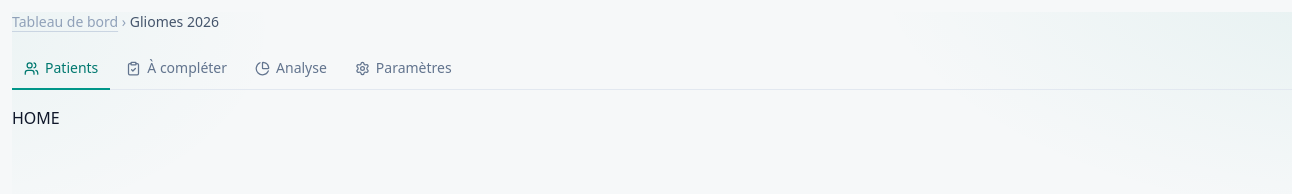
Test case: BaseLayout — quatre destinations › « À coder » suit le droit de modifier les données, comme la file
Click the link "À compléter".
click(177, 68)  # box [126,58,227,77]
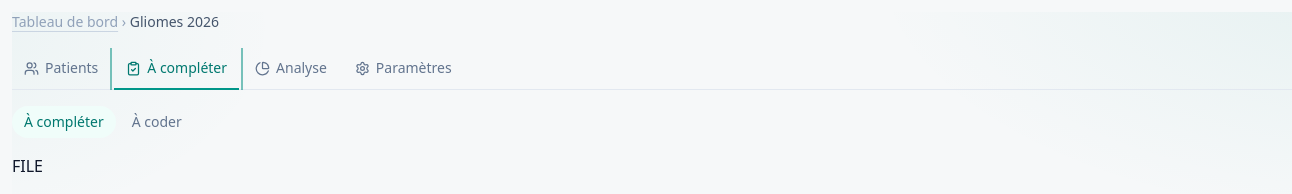
Click the link "À coder".
click(157, 122)  # box [132,112,182,131]
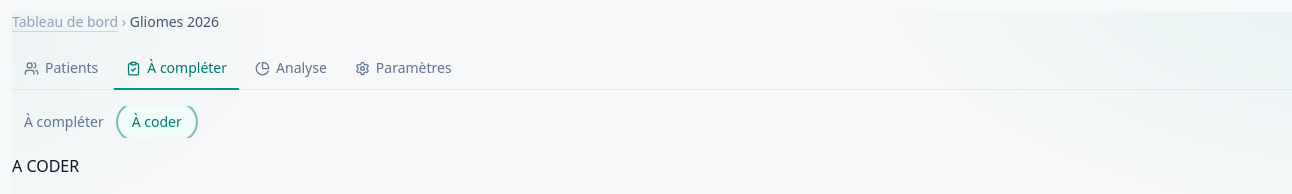
Result: the text "A CODER" is shown at [12,155,79,177]
